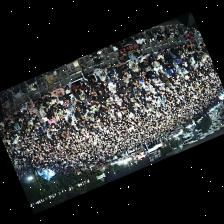person: (79, 64, 97, 84), (149, 53, 162, 72), (170, 51, 183, 67), (146, 65, 157, 82), (114, 61, 127, 75), (72, 80, 86, 93), (51, 87, 64, 99), (129, 66, 141, 79), (138, 54, 149, 68), (95, 67, 107, 79), (41, 93, 52, 106), (83, 81, 92, 96), (166, 67, 179, 77), (107, 78, 116, 92), (128, 58, 138, 70), (39, 105, 47, 120), (92, 82, 102, 94), (156, 49, 165, 62), (170, 45, 180, 56), (98, 75, 107, 87), (111, 68, 118, 83), (118, 77, 128, 87), (12, 110, 21, 121), (118, 72, 129, 81), (107, 64, 114, 78), (21, 103, 28, 117), (29, 106, 37, 118), (50, 96, 58, 108), (68, 101, 75, 114), (97, 94, 106, 104), (141, 74, 150, 84), (50, 104, 59, 114), (74, 99, 81, 111), (6, 112, 14, 122), (25, 99, 33, 109), (173, 60, 181, 70), (187, 43, 195, 52), (34, 98, 44, 105), (64, 83, 71, 92), (114, 41, 123, 48), (70, 94, 76, 104), (57, 109, 63, 119), (115, 94, 121, 104), (190, 56, 196, 66), (192, 42, 199, 49), (44, 103, 50, 111), (79, 91, 85, 99)
